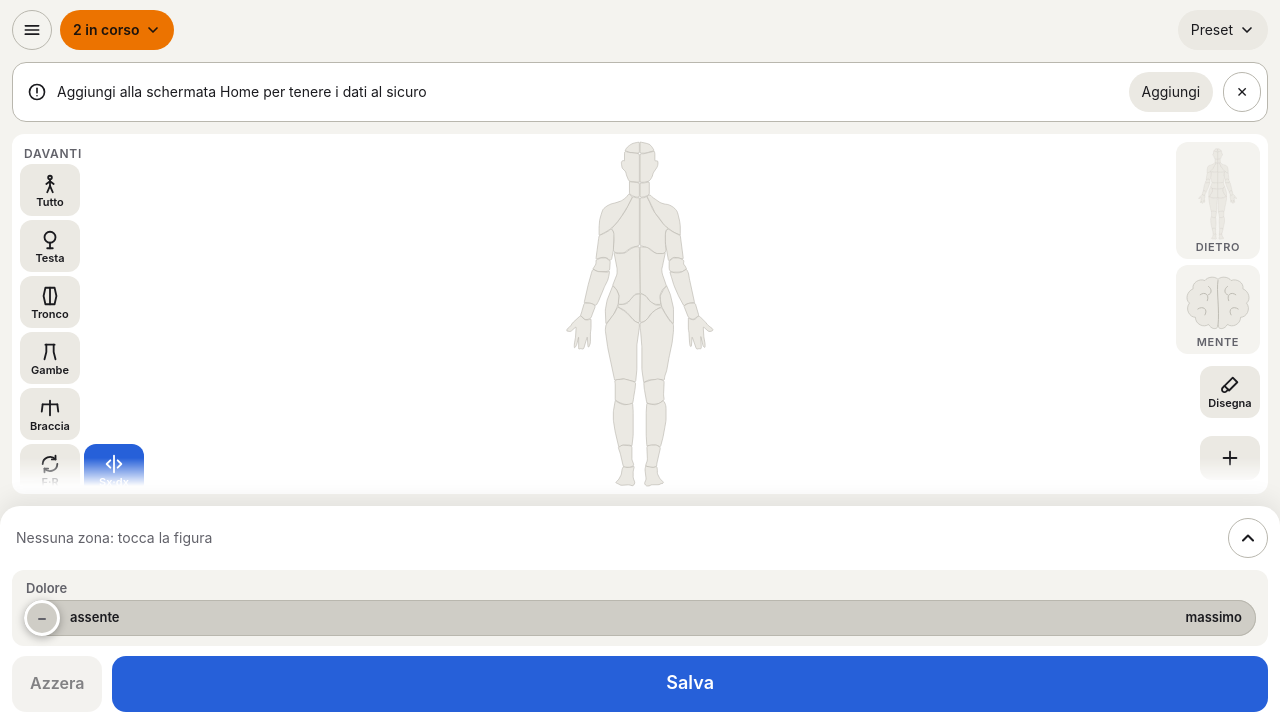
it: A forgotten episode in the dropdown (#115) › its line asks "ancora?" after 24 h without a reading
This screenshot has width=1280, height=720.
Click the button "2 in corso" at (117, 30), box [60,10,174,50]
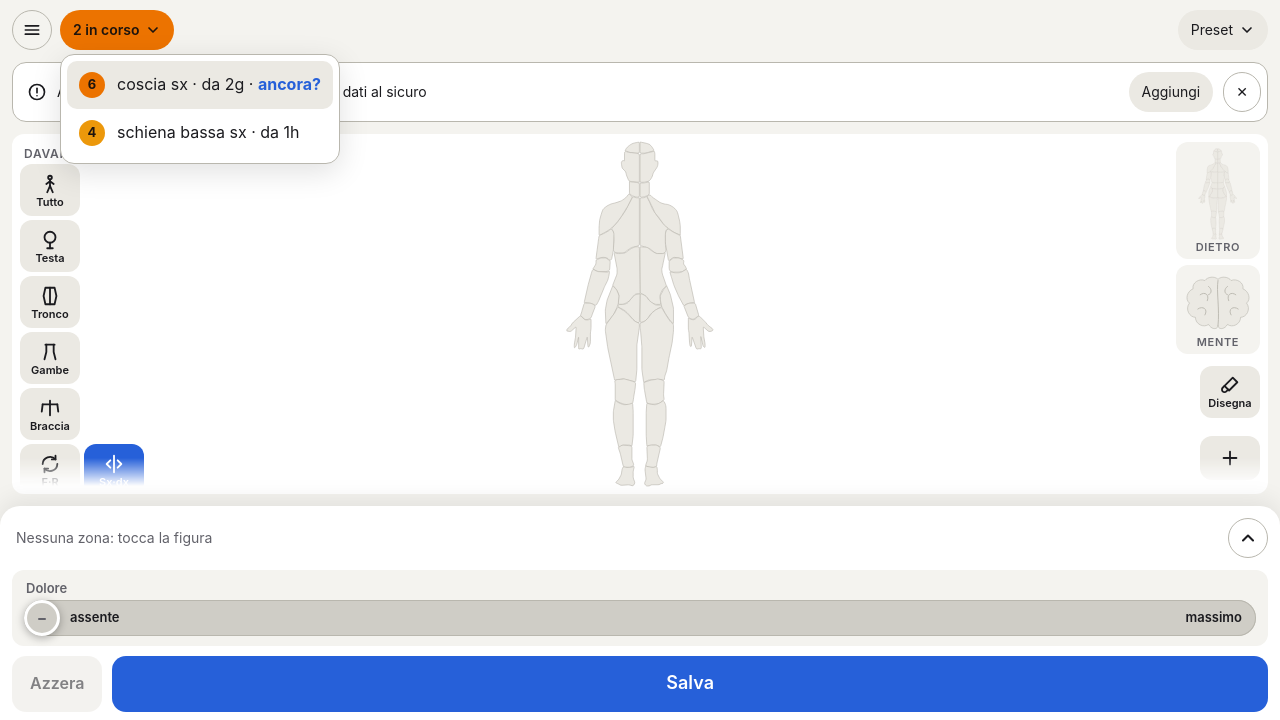
Result: the number of menu items is 2 at [67,61,333,109]; [67,109,333,157]
Result: the menu item "6 coscia sx · da 2g · ancora?" is shown at [67,61,333,109]
